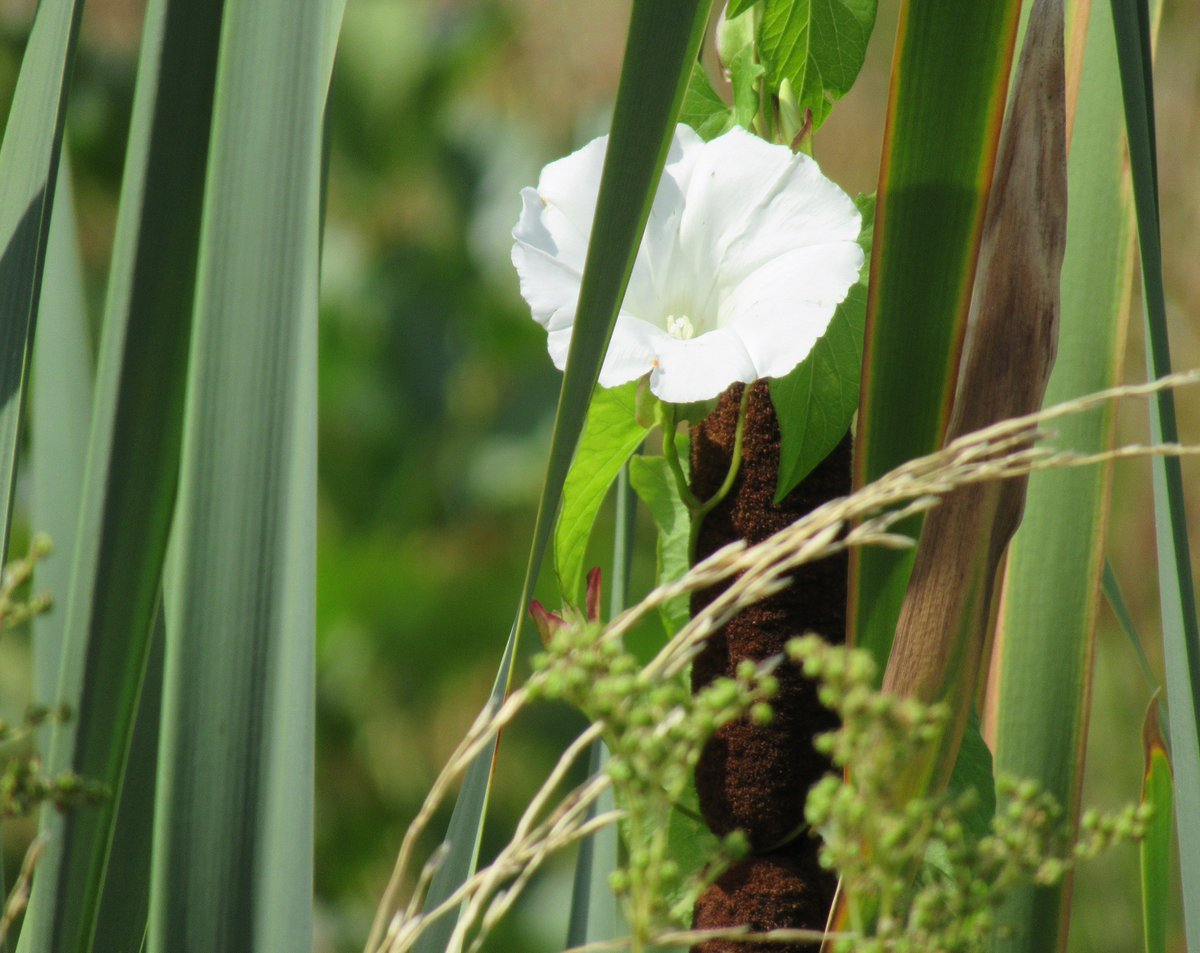haagwinde: (497, 102, 891, 410)
